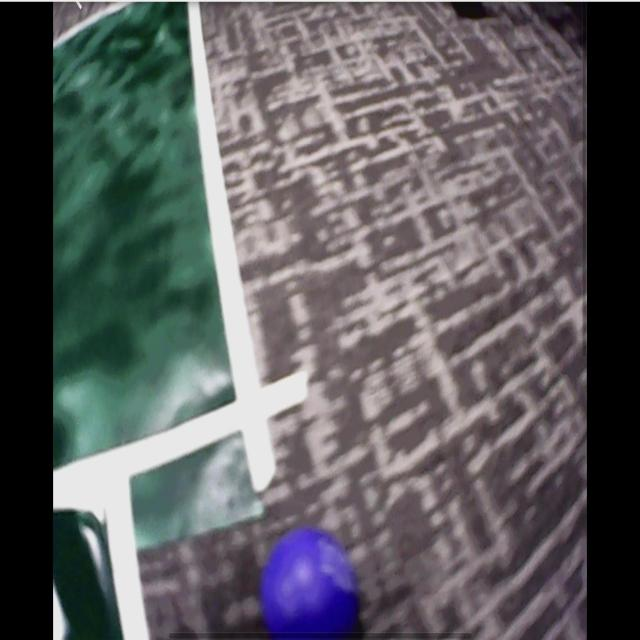ball: (264, 531, 356, 636)
